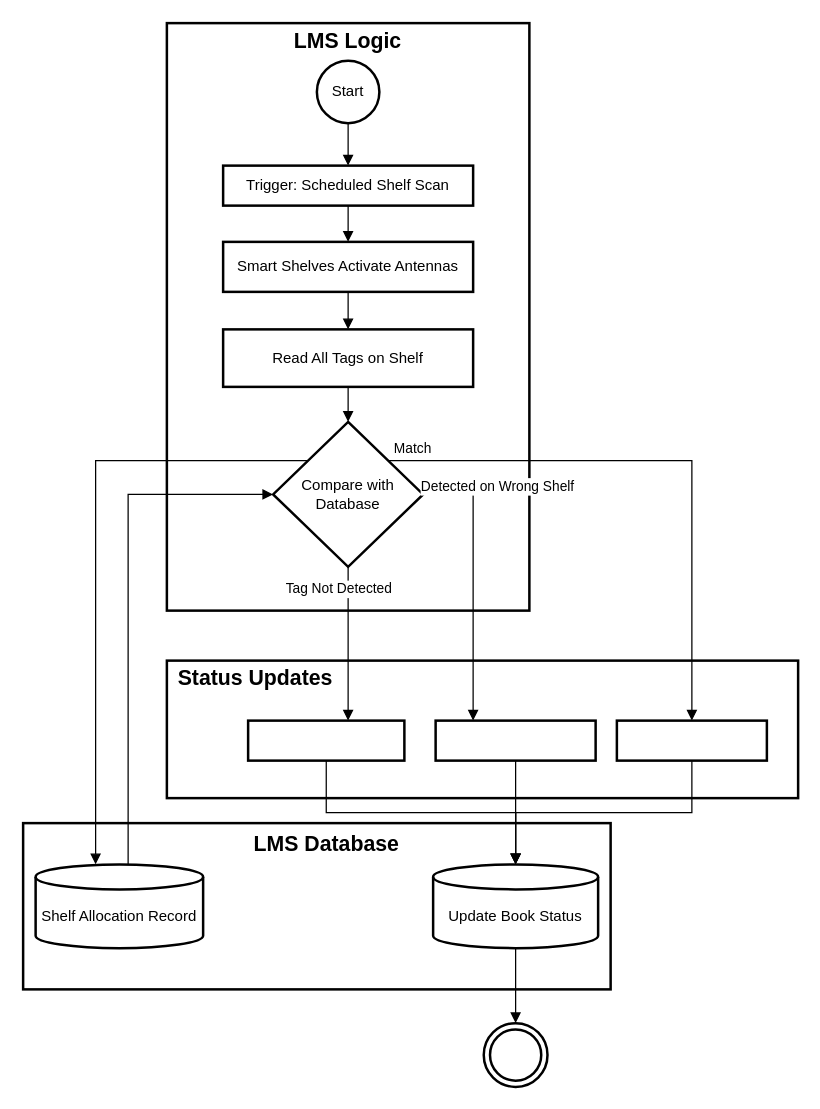
The diagram is 820 pixels wide and 1109 high, and some of its shapes have lost their labels. The centre of each missing label's shape, as x and y in pixels:
"Alert: Book Missing" goes at [325,740].
"End" goes at [515,1054].
"Log: Confirmed Present" goes at [691,740].
"Update Location: WRONG SHELF" goes at [515,740].
